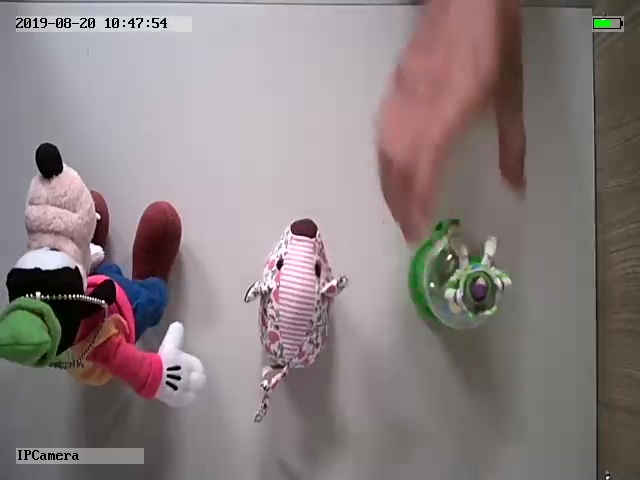buzz: (408, 218, 515, 335)
goofy: (2, 141, 208, 410)
pig: (240, 216, 351, 426)
